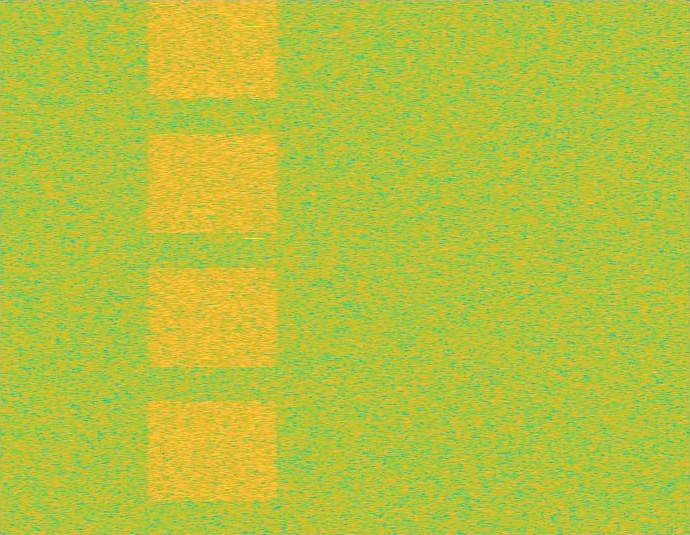5G: (144, 0, 282, 534)
Radar: (247, 0, 261, 534)
